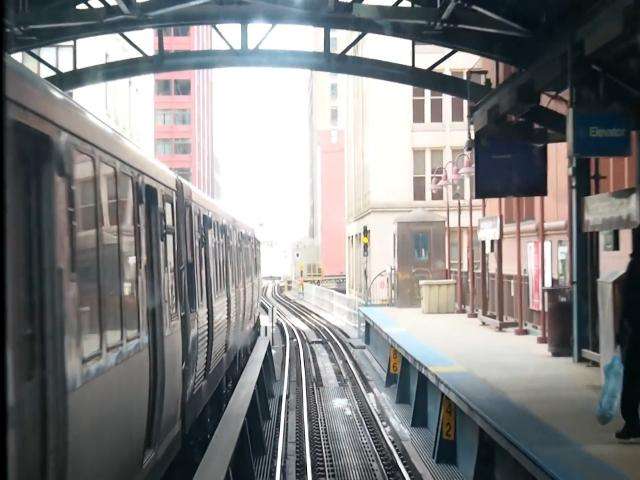signal light: (362, 225, 372, 262)
